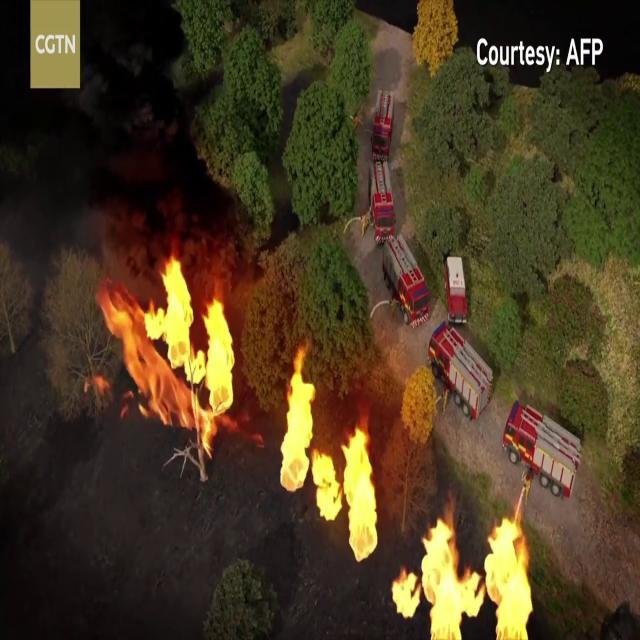Fire: (90, 247, 240, 449), (278, 340, 380, 560), (390, 495, 538, 638)
